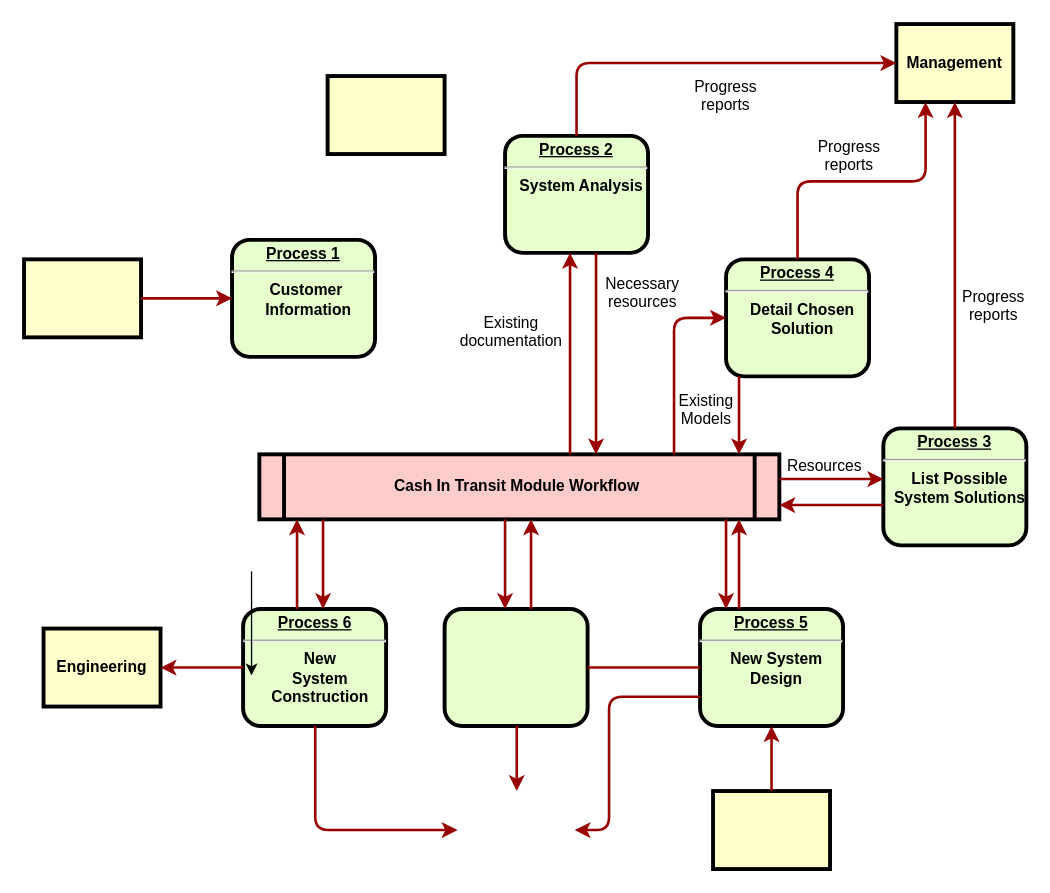
This 1050x893 diagram has some shape labels left out. The centre of each missing label's shape, as x and y in pixels:
"CIT Request" belongs at [81,298].
"Customer Module" belongs at [385,114].
"Process 7 New System Startup and Testing" belongs at [515,666].
"Vendors" belongs at [770,829].
